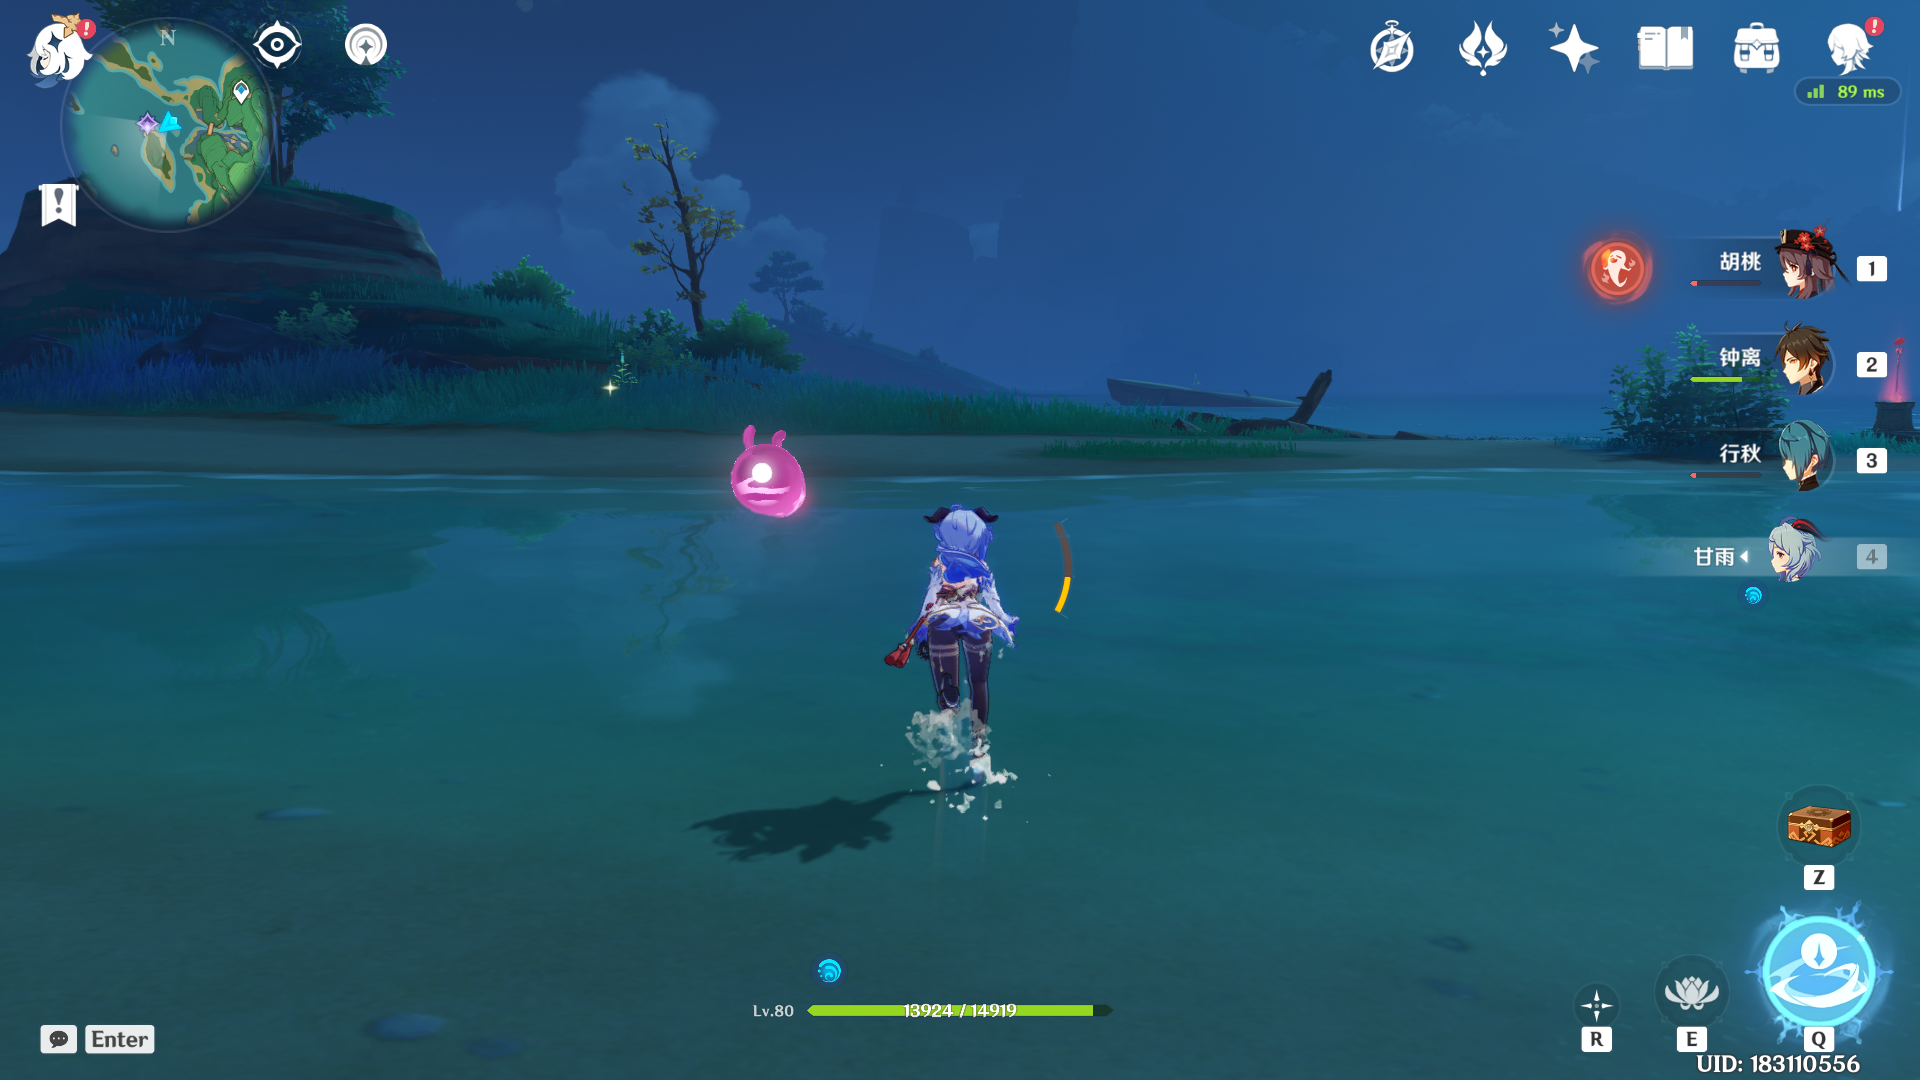character: (832, 483, 1084, 810)
